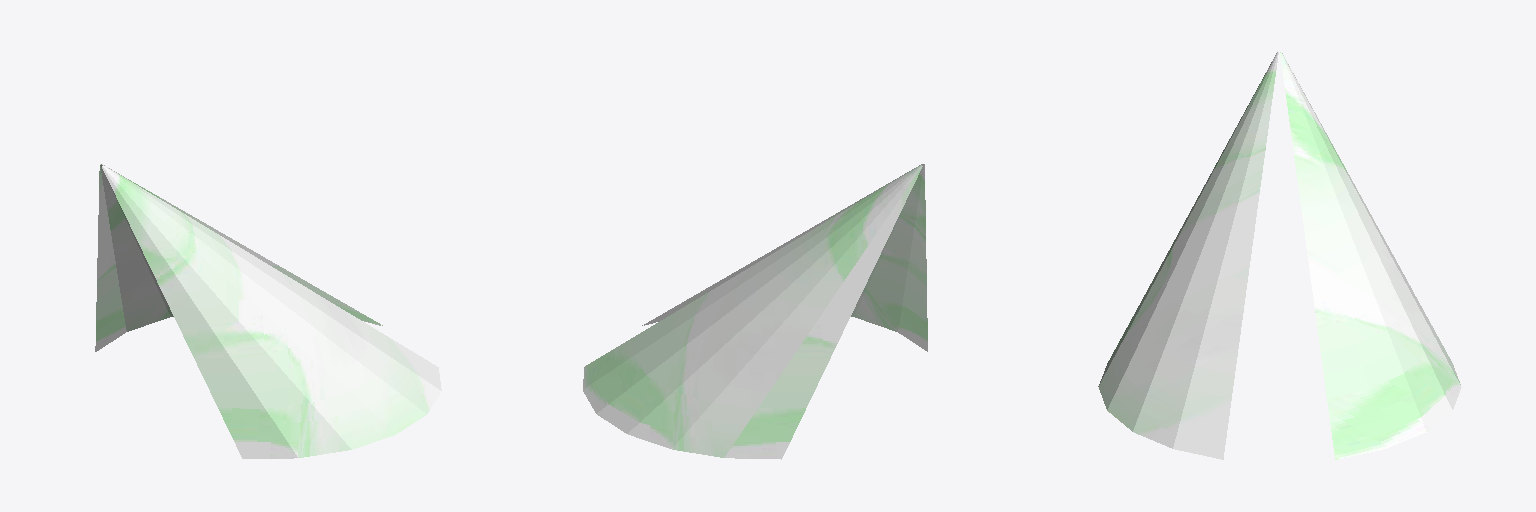
3 views of the same model, side by side, from view 1: azimuth 30°, elevation 25°; view 2: azimuth 150°, elevation 25°; view 3: azimuth 270°, elevation 25° (orthographic).
Parts seen in each view (by area): view 1: vail:wall; view 2: vail:wall; view 3: vail:wall.
Boxes of the visible parts, box(x1,y1,x2,y2) form: vail:wall: box(95, 164, 441, 458); vail:wall: box(583, 164, 927, 459); vail:wall: box(1098, 51, 1461, 459).
Size of the model in its own units: 10.23 by 8.08 by 10.33.
1 materials, 1 textured.